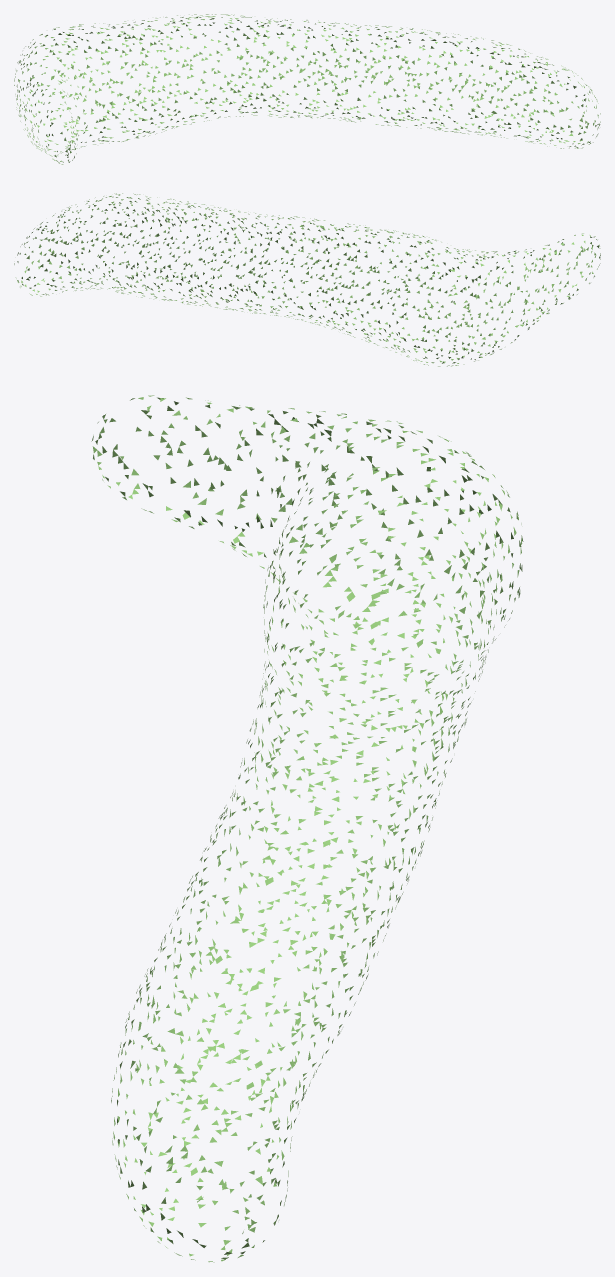
File: morph_014.glb
3 views of the same model, one above another, from view 1: azimuth 30°, elevation 25°; view 2: azimuth 150°, elevation 25°; view 3: azimuth 270°, elevation 25° (orthographic). The views are drawn at different scales.
Bounding box in the file's own units: 117 × 37.28 × 39.28.
